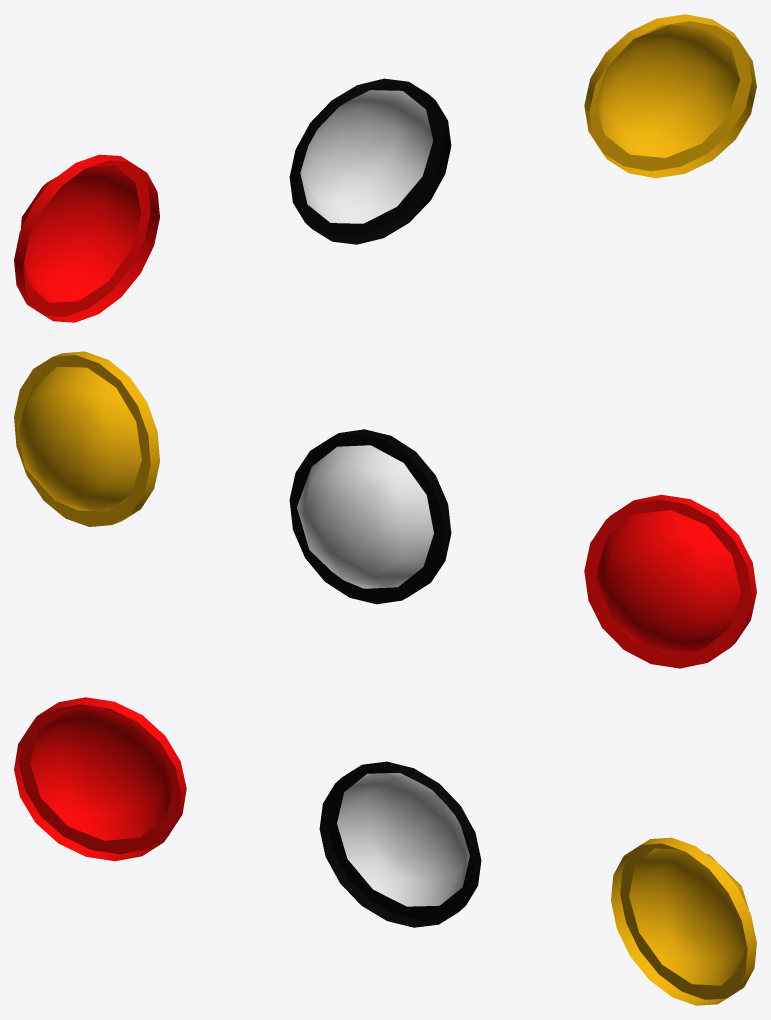
Rendered from newLucesCoche.fbx.
3 views of the same model, one above another, from view 1: azimuth 30°, elevation 25°; view 2: azimuth 150°, elevation 25°; view 3: azimuth 330°, elevation 25° (orthographic).
Visible parts, largest first — view 1: Foco1, Foco2, Foco3; view 2: Foco3, Foco2, Foco1; view 3: Foco3, Foco2, Foco1.
Boxes of the visible parts, x1,y1,x2,y2 form: Foco1: (584, 14, 756, 178); Foco2: (289, 78, 451, 244); Foco3: (14, 154, 159, 322); Foco3: (584, 494, 756, 668); Foco2: (289, 429, 451, 604); Foco1: (14, 351, 159, 526); Foco3: (14, 697, 186, 861); Foco2: (319, 761, 481, 927); Foco1: (611, 837, 756, 1005).
Size of the model in its own units: 0.6273 by 0.1301 by 0.0707.
Materials: 3 (1 with a texture image).
